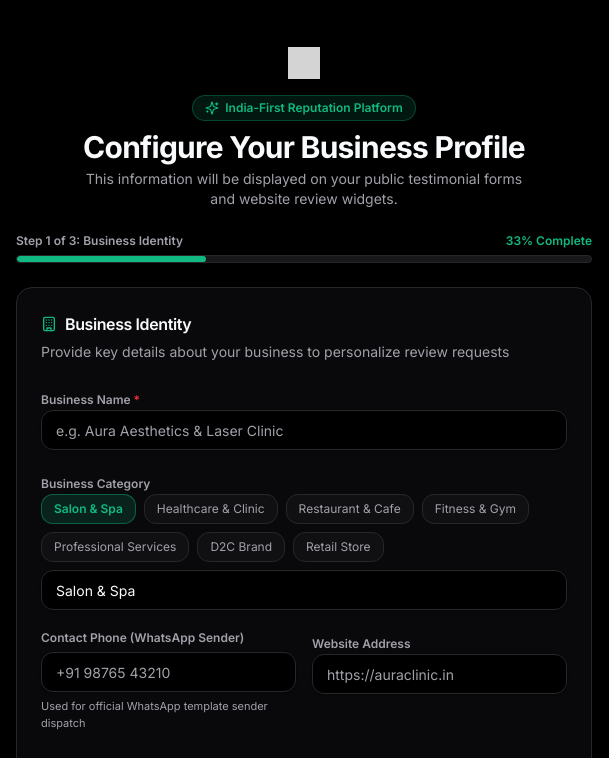
Scenario: OnboardingPage Integration Tests › displays API error banner when onboarding fails on backend
In the field with placeholder "e.g. Aura Aesthetics & Laser Clinic": (304, 430) [41, 410, 567, 450], type "Aura Aesthetics"
(page scrolled)
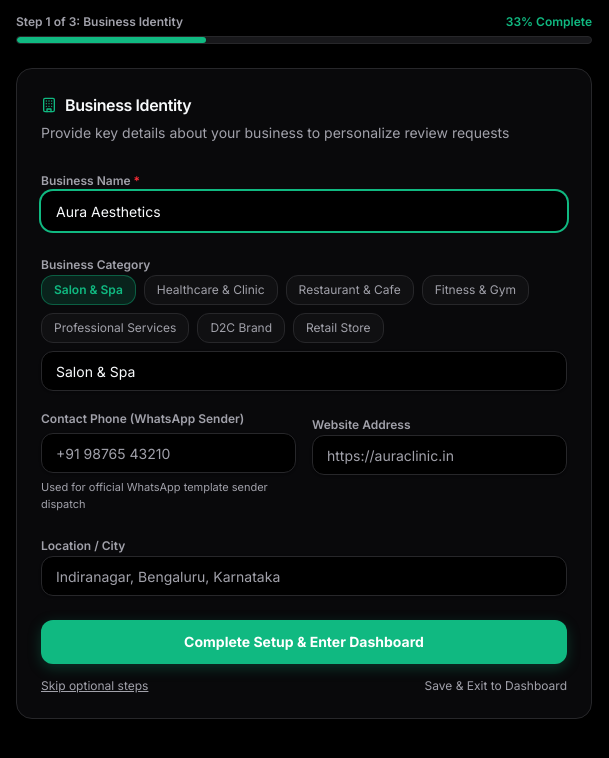
Click the button "Complete Setup & Enter Dashboard": (304, 642) [41, 620, 567, 664]
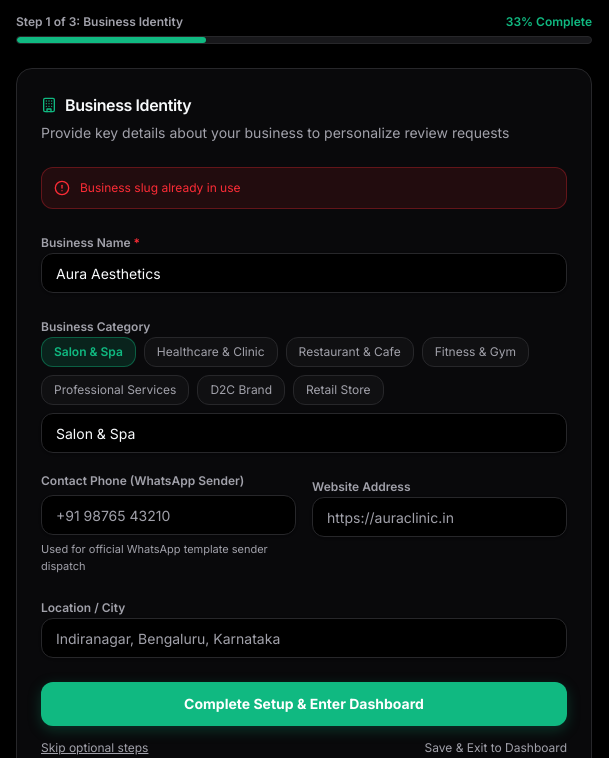
Result: the text "Business slug already in use" is shown at [80, 180, 240, 196]
